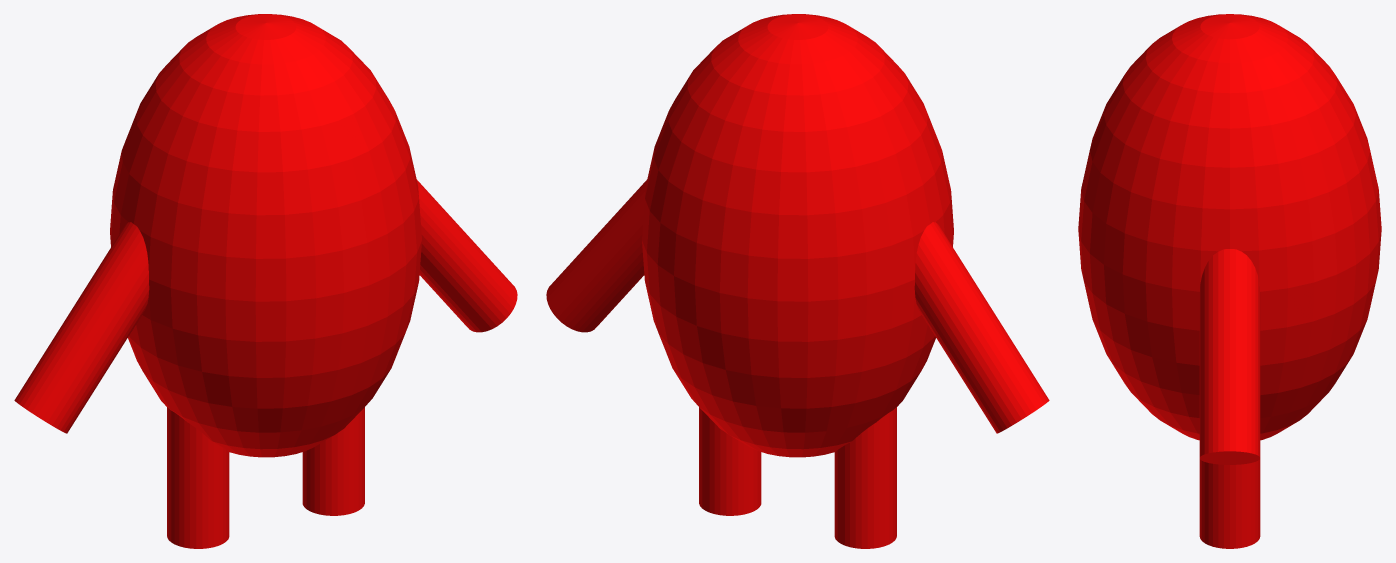
Rendered from sci-fi_1.glb.
3 views of the same model, side by side, from view 1: azimuth 30°, elevation 25°; view 2: azimuth 150°, elevation 25°; view 3: azimuth 270°, elevation 25° (orthographic). The views are drawn at different scales.
Visible parts, largest first — view 1: Sphere, Cylinder.003, Cylinder.002, Cylinder.001, Cylinder; view 2: Sphere, Cylinder.003, Cylinder.002, Cylinder.001, Cylinder; view 3: Sphere, Cylinder.002, Cylinder.
Part boxes in pixels (x1,y1,x2,y2): Sphere: (110, 14, 421, 457); Cylinder.003: (14, 222, 149, 433); Cylinder.002: (416, 179, 517, 332); Cylinder.001: (167, 407, 229, 548); Cylinder: (302, 407, 364, 515); Sphere: (642, 14, 953, 457); Cylinder.003: (914, 222, 1049, 433); Cylinder.002: (546, 179, 647, 332); Cylinder.001: (834, 407, 896, 548); Cylinder: (699, 407, 761, 515); Sphere: (1078, 14, 1381, 440); Cylinder.002: (1199, 249, 1260, 464); Cylinder: (1199, 459, 1260, 548).
Bounding box in the file's own units: 1.82 × 1.75 × 1.
